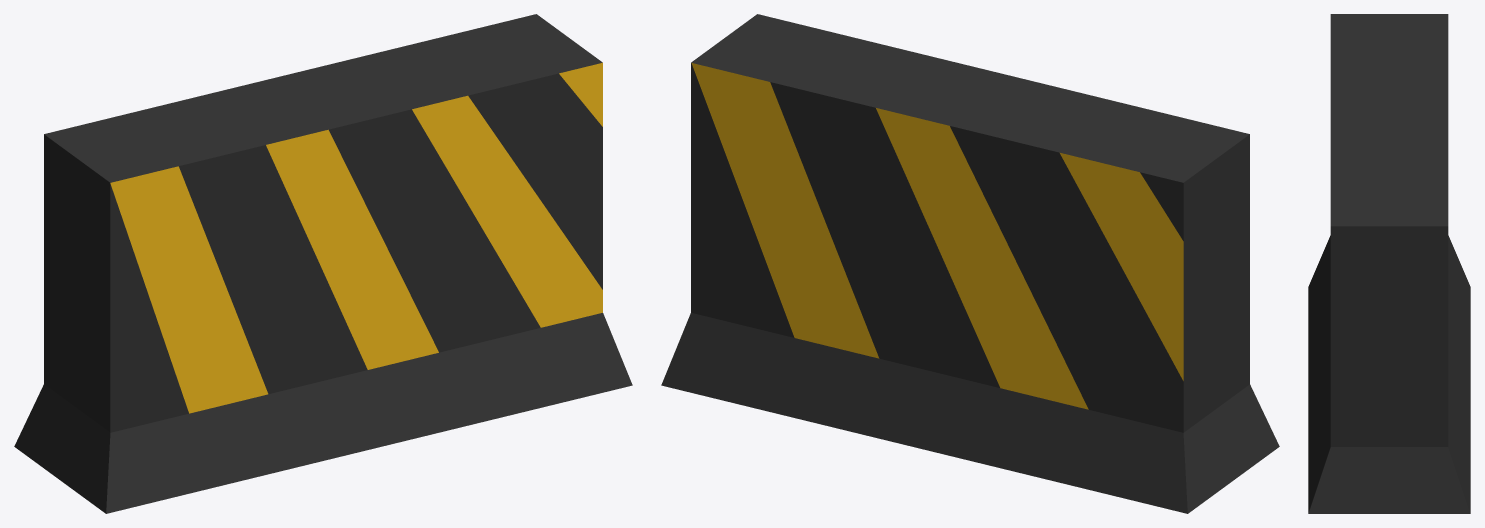
Rendered from Barier.fbx.
The picture shows the model from 3 angles, left to right: view 1: azimuth 30°, elevation 25°; view 2: azimuth 150°, elevation 25°; view 3: azimuth 270°, elevation 25°; orthographic projection. The views are drawn at different scales.
Parts seen in each view (by area): view 1: Cube; view 2: Cube; view 3: Cube.
Part boxes in pixels (<box>): Cube: <box>14,14,632,513</box>; Cube: <box>661,14,1279,513</box>; Cube: <box>1308,14,1470,513</box>.
Bounding box in the file's own units: 266 × 153 × 80.36.
Materials: 1 (1 with a texture image).
